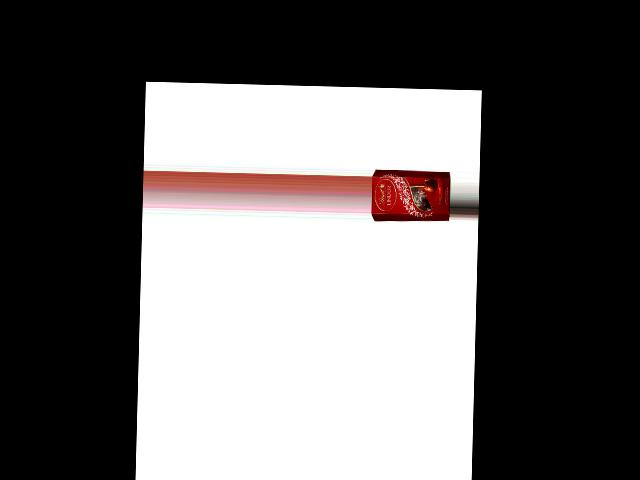chocolate: (371, 165, 451, 224)
